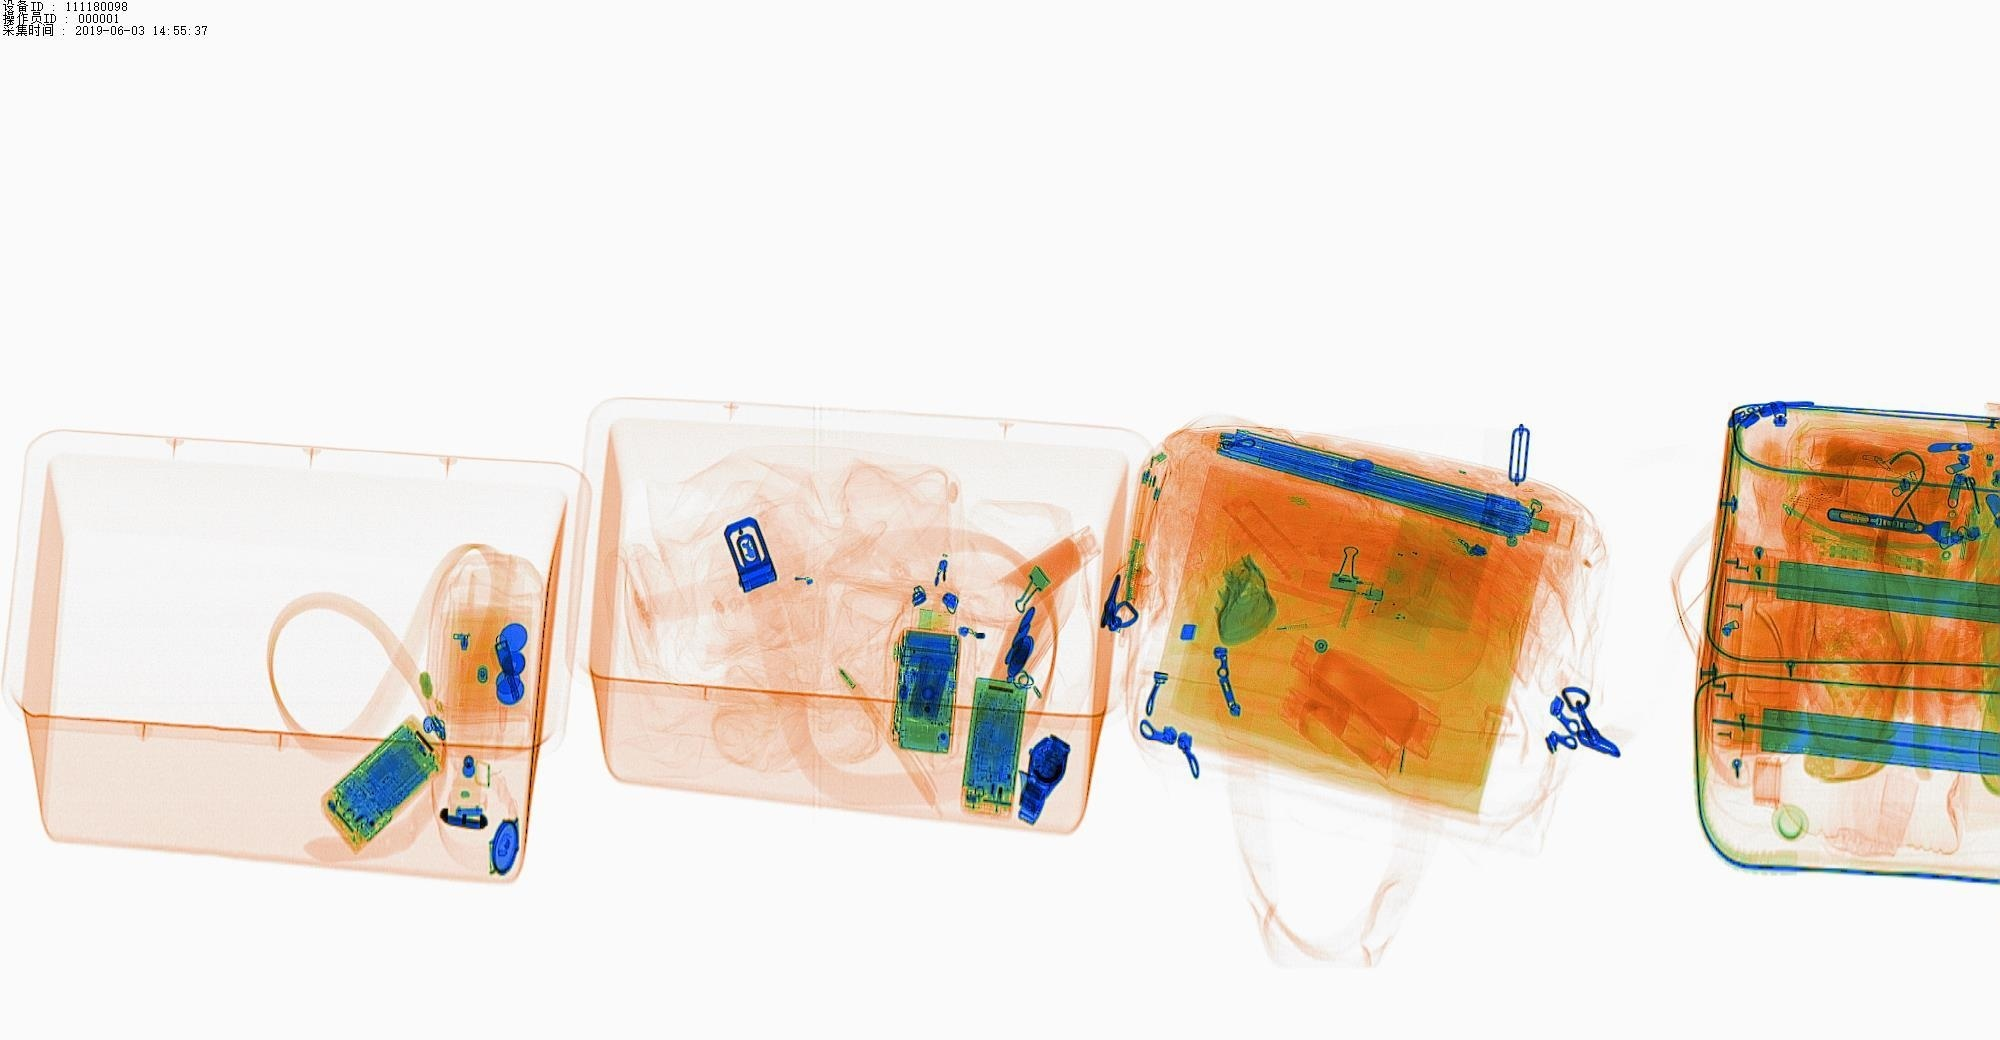NonmetallicFire: (1287, 553, 1388, 617)
